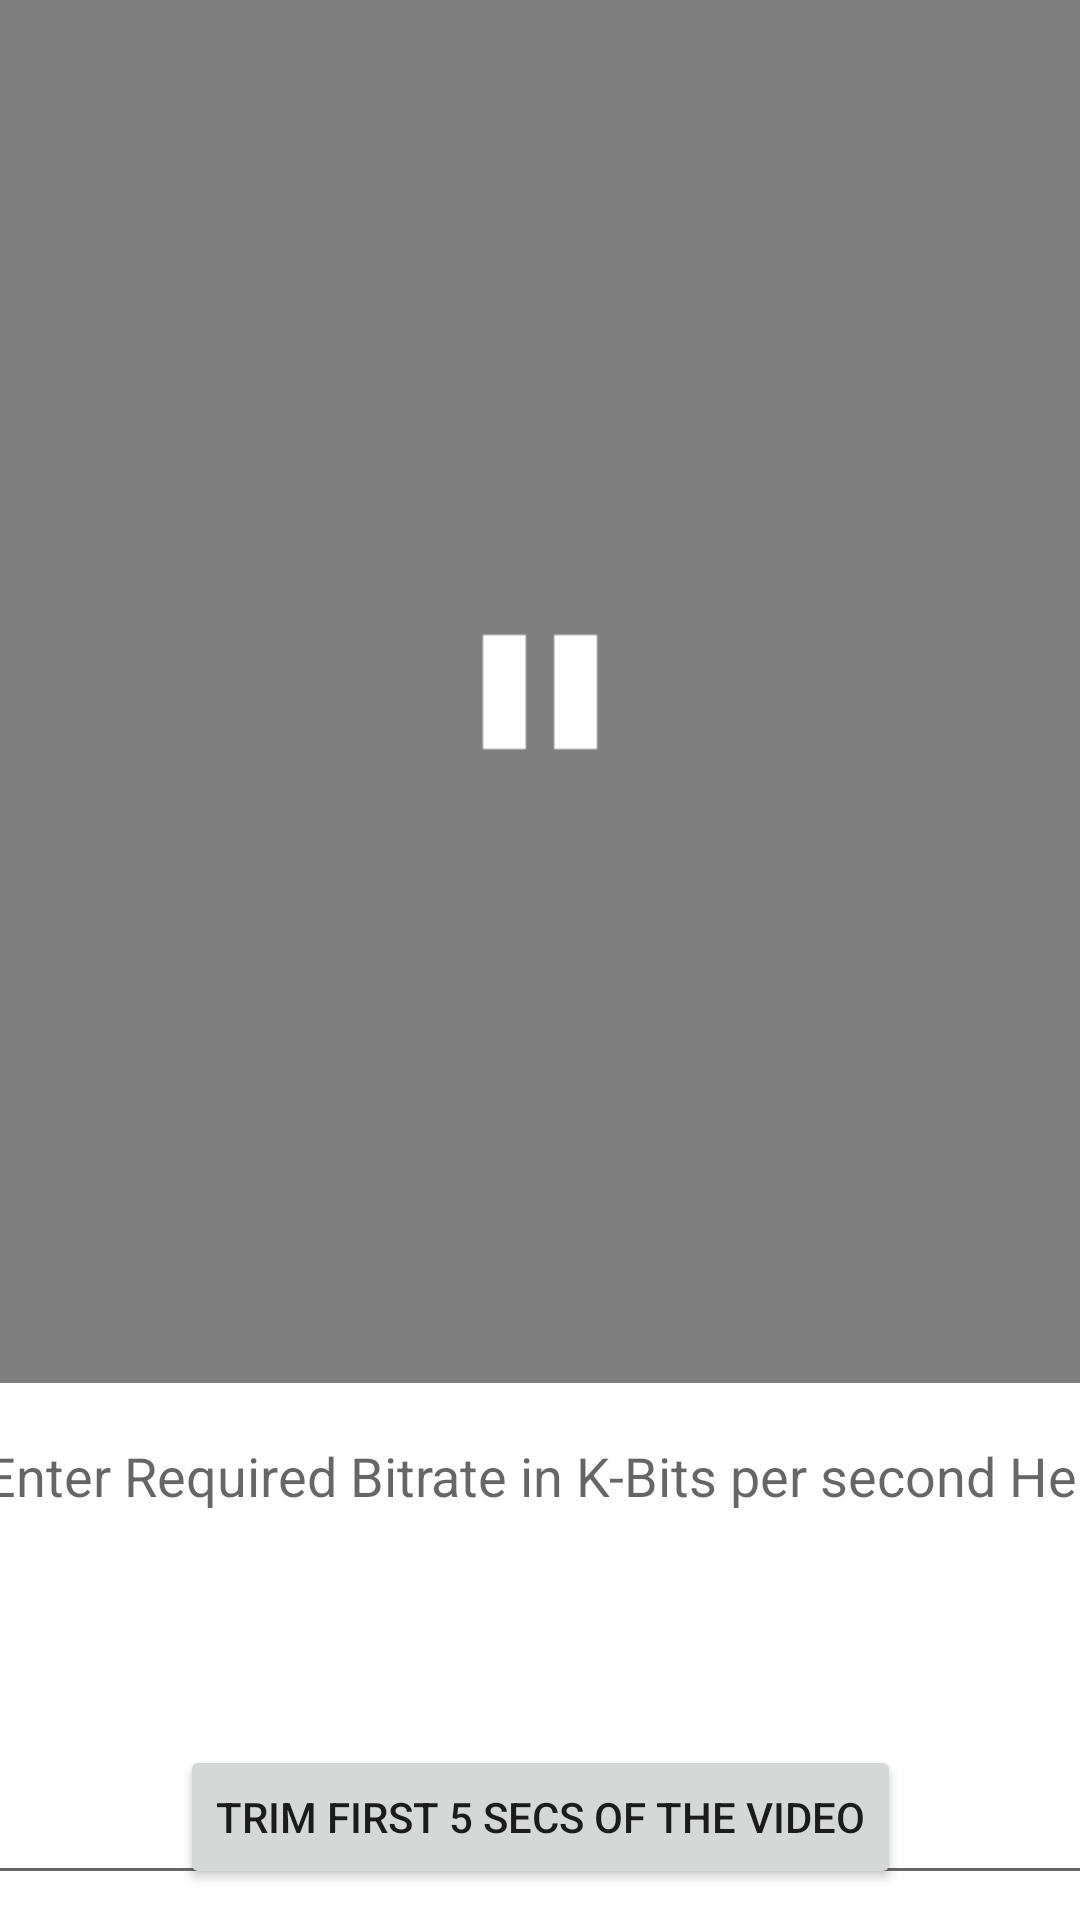

Icon click points for this 1080px×1920px phone screenshot, format (x,y):
pause: (540,692)
